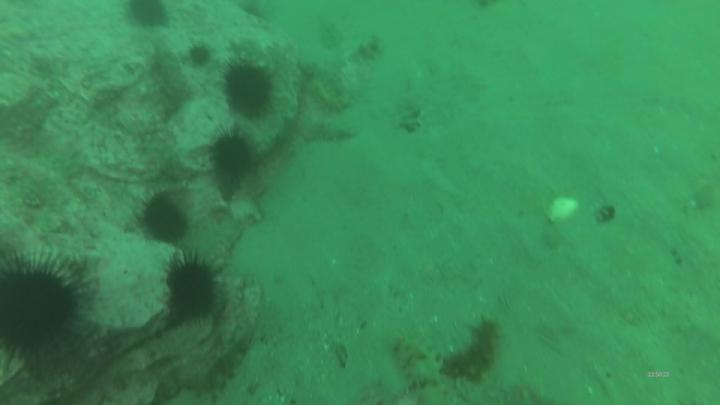echinus: (1, 250, 88, 363), (163, 254, 223, 323), (220, 60, 278, 119), (207, 125, 257, 179), (141, 197, 194, 244), (123, 1, 172, 31), (187, 43, 213, 71)
holothurian: (119, 312, 221, 382), (391, 334, 474, 405), (440, 316, 508, 385), (300, 67, 355, 114), (297, 118, 361, 148), (315, 17, 347, 52)
scallop: (546, 194, 581, 225)
